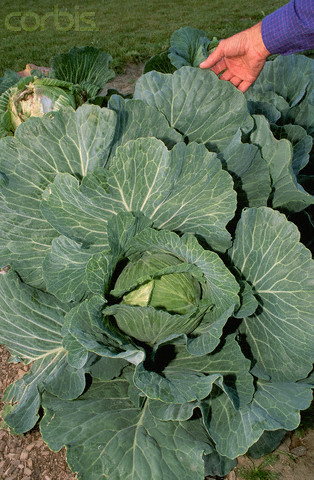cabbage: (0, 57, 312, 478)
